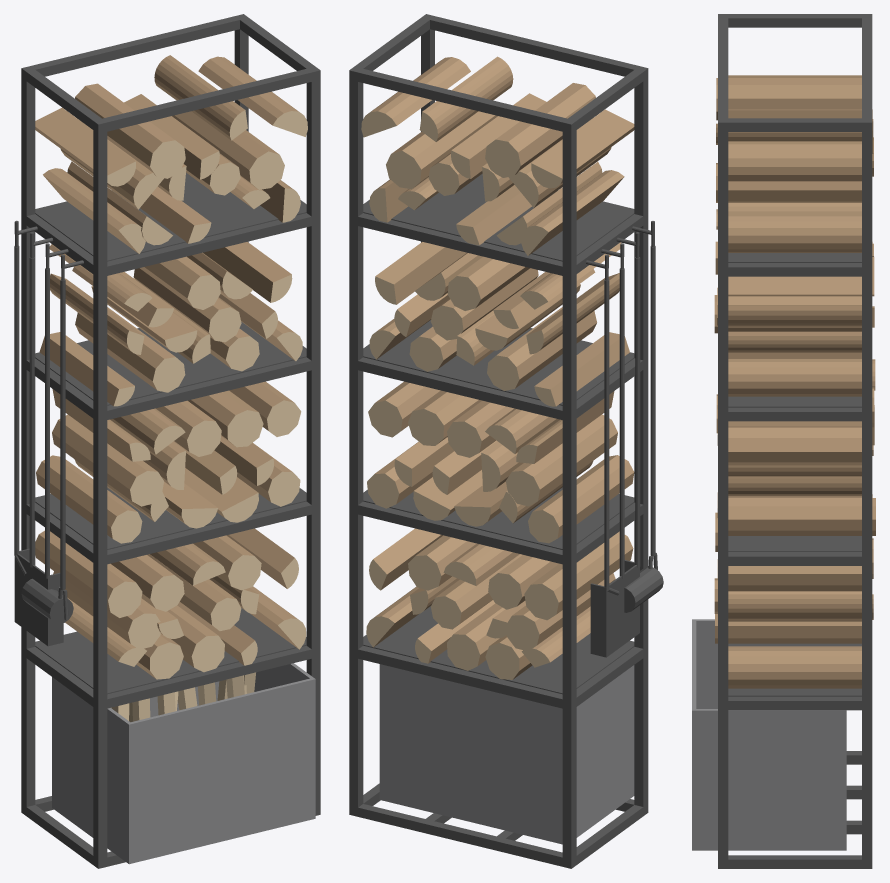
File: drovnytsia_z_drovamy.glb
The picture shows the model from 3 angles, left to right: view 1: azimuth 30°, elevation 25°; view 2: azimuth 150°, elevation 25°; view 3: azimuth 270°, elevation 25°; orthographic projection.
Visible parts, largest first — view 1: frame, bark, basket, log_ends, kindling; view 2: frame, bark, log_ends, basket; view 3: bark, frame, basket.
Part boxes in pixels (x1=…): frame: x1=14, y1=14, x2=320, y2=868; bark: x1=35, y1=55, x2=301, y2=678; basket: x1=52, y1=663, x2=315, y2=864; log_ends: x1=107, y1=110, x2=307, y2=679; kindling: x1=111, y1=672, x2=255, y2=722; frame: x1=349, y1=14, x2=663, y2=868; bark: x1=367, y1=56, x2=634, y2=679; log_ends: x1=361, y1=111, x2=562, y2=679; basket: x1=379, y1=664, x2=634, y2=844; bark: x1=714, y1=75, x2=875, y2=688; frame: x1=718, y1=14, x2=872, y2=868; basket: x1=692, y1=619, x2=846, y2=850.
Bounding box in the file's own units: 0.572 × 1.6 × 0.357.
